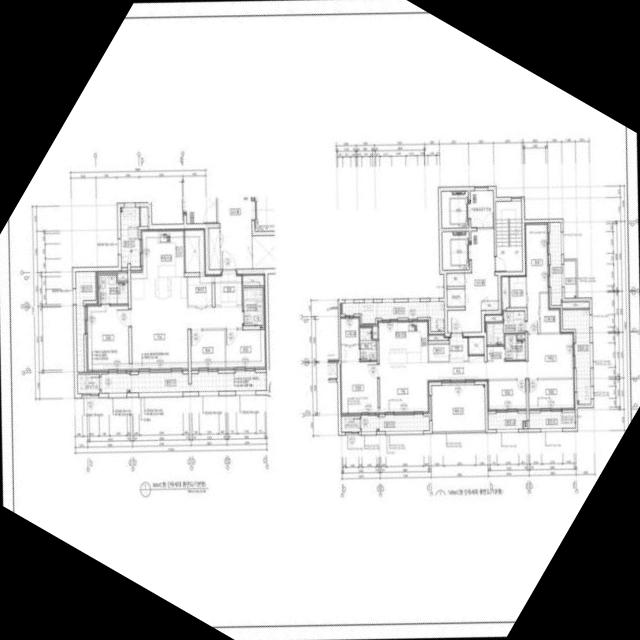background: (0, 0, 640, 640)
space_balconi: (78, 371, 267, 394), (343, 302, 444, 331), (563, 310, 591, 404), (432, 385, 486, 432), (76, 272, 96, 372), (120, 207, 140, 267), (361, 415, 429, 432), (549, 223, 562, 306), (529, 412, 575, 429), (488, 412, 527, 429), (564, 261, 576, 298)
space_bedroom: (86, 304, 130, 372), (340, 345, 378, 415), (525, 223, 549, 333), (226, 330, 267, 370), (529, 380, 575, 410), (191, 331, 225, 370), (488, 381, 526, 411)
space_dressroom: (540, 293, 561, 333), (341, 317, 360, 344), (510, 276, 526, 308)
space_elevator: (442, 232, 472, 270), (442, 191, 471, 228), (255, 197, 275, 231)
space_elevator_hall: (447, 191, 498, 333), (218, 197, 253, 269), (186, 198, 216, 224)
space_front: (215, 272, 242, 307), (450, 335, 468, 363)
space_kitchen: (131, 229, 187, 309), (378, 320, 429, 364)
space_living_room: (380, 332, 574, 414), (132, 307, 242, 371)
space_other: (185, 229, 205, 272), (252, 236, 275, 269), (188, 275, 212, 306), (209, 228, 221, 270), (429, 344, 449, 362), (447, 289, 465, 307), (341, 416, 360, 432), (501, 276, 509, 310), (243, 274, 265, 286), (469, 337, 484, 354), (447, 274, 465, 286), (562, 302, 589, 308), (482, 301, 499, 310), (429, 334, 448, 341), (141, 207, 148, 226), (485, 315, 503, 322), (118, 271, 128, 281), (373, 325, 378, 339), (518, 335, 525, 339)
space_staircase: (496, 201, 523, 272)
space_toilet: (487, 311, 525, 345), (487, 335, 526, 362), (99, 275, 128, 304), (243, 288, 263, 325), (360, 328, 377, 360)
